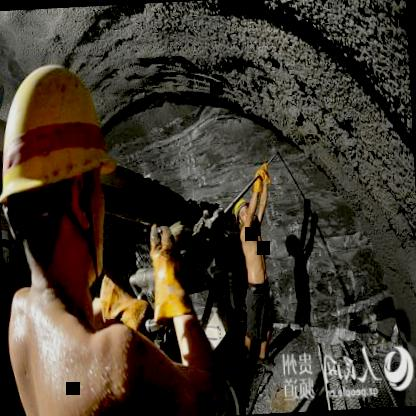helmet: (0, 47, 123, 321), (232, 193, 252, 229)
